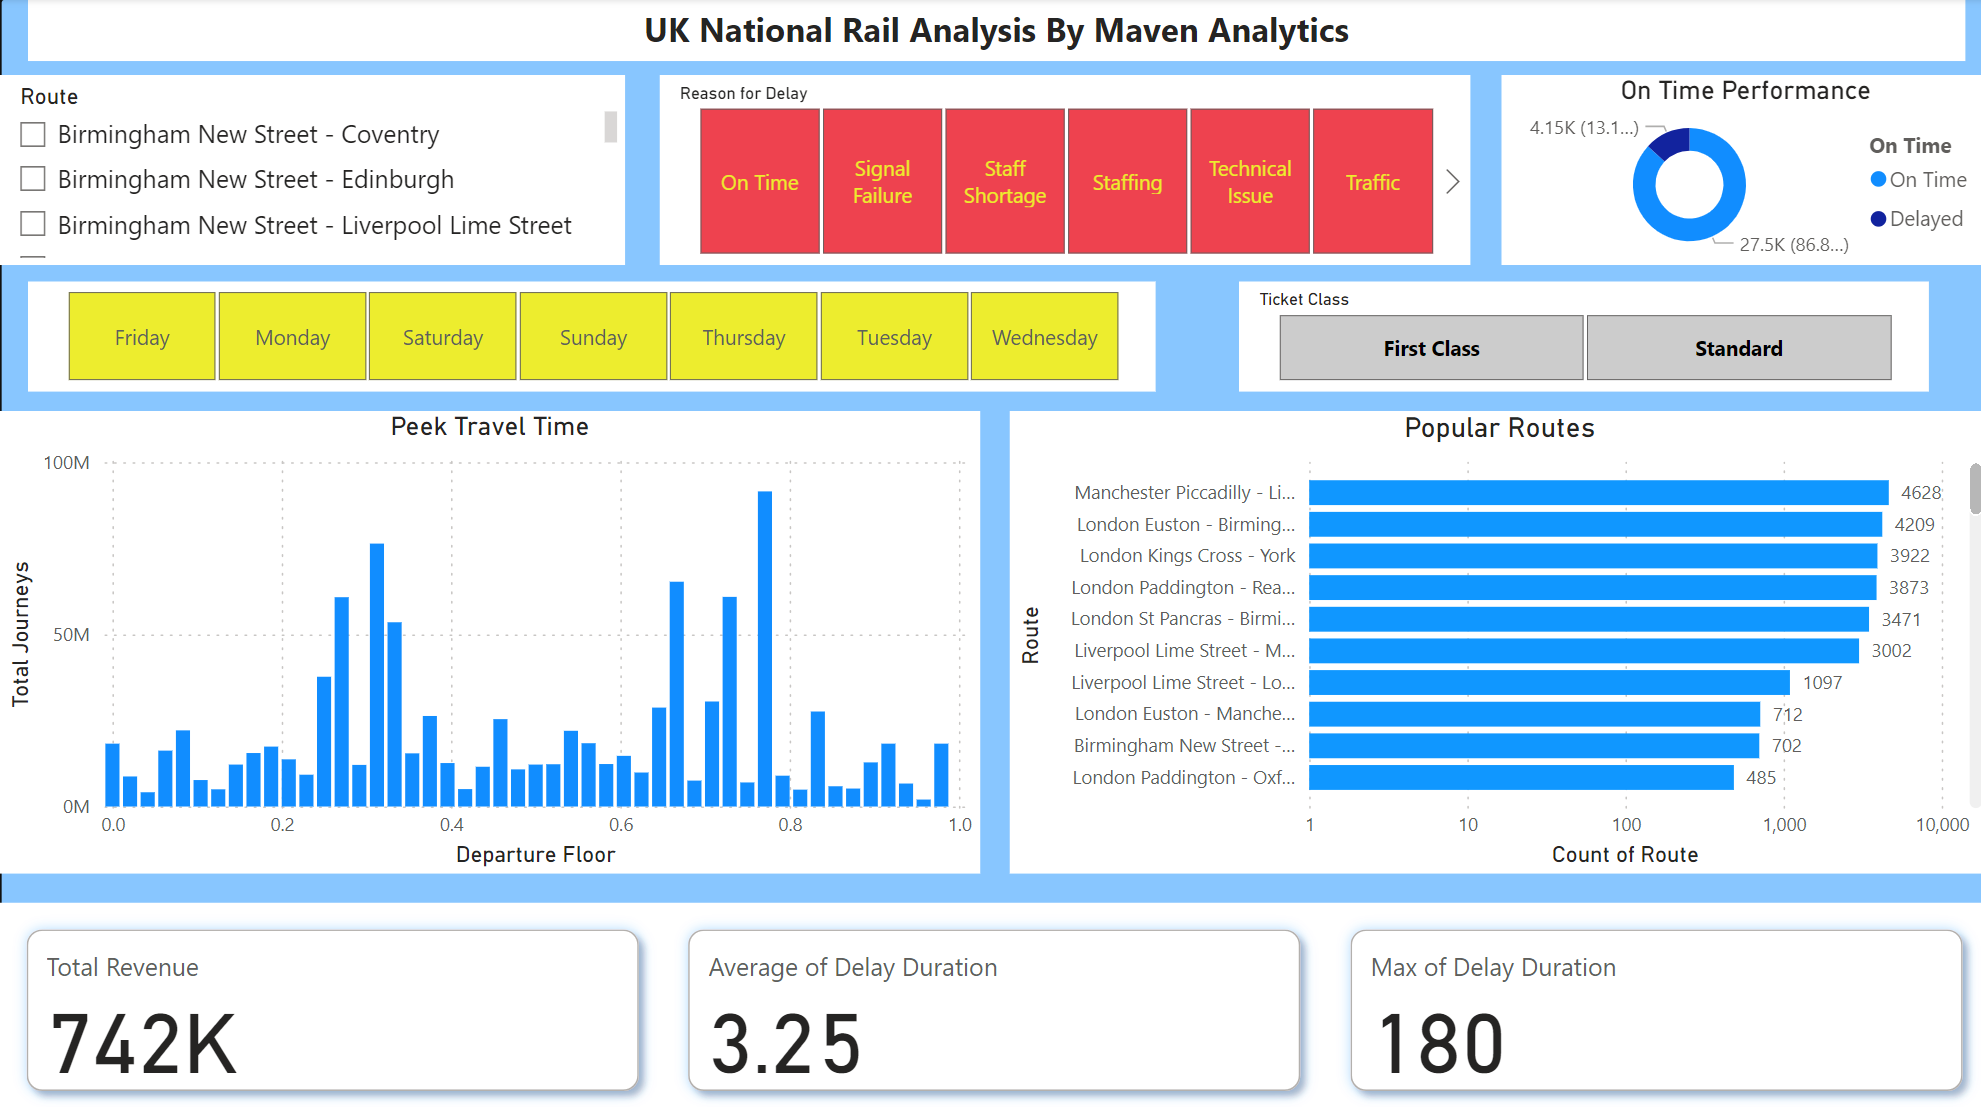

Layout of this report page (visuals, bound fields, positions):
{"tool":"powerbi","page":{"name":"Page 1","canvas":[1280,720],"ordinal":0},"visuals":[{"type":"slicer","fields":{"Values":["railway.Route"]},"box":[0,50.1,402,122],"z":0},{"type":"slicer","fields":{"Values":["railway.Reason for Delay"]},"box":[425.1,50.1,521.5,122],"z":1000},{"type":"clusteredColumnChart","title":"Peek Travel Time","fields":{"Category":["railway.Departure Floor"],"Y":["Sum(railway.Total Journeys)"]},"box":[0,265.9,630.6,298],"z":2000},{"type":"barChart","title":"Popular Routes","fields":{"Category":["railway.Route"],"Y":["CountNonNull(railway.Route)"]},"box":[649.9,265.9,630.6,298],"z":3000},{"type":"slicer","fields":{"Values":["railway.Ticket Class"]},"box":[796.9,182,443.9,70.6],"z":4000},{"type":"slicer","fields":{"Values":["Calendar.DayOfWeekName"]},"box":[18,182.4,725.7,70.6],"z":5000},{"type":"cardVisual","fields":{"Data":["Sum(railway.Price)","Avg(railway.Delay Duration)","Max(railway.Delay Duration)1"]},"box":[0,582,1280,138],"z":6000},{"type":"donutChart","title":"On Time Performance ","fields":{"Category":["railway.On Time"],"Y":["CountNonNull(railway.Journey Status)"]},"box":[965.9,50.1,314.7,122],"z":7000},{"type":"textbox","box":[18,0,1246.8,40.5],"z":7001}]}

Visuals, with their boxes in screenshot pixels (x1, y1, x2, y2), scaled from the page's 1280x720 canvas onto the 1981x1107 screenshot:
slicer - railway.Route: x1=0, y1=77, x2=622, y2=265
slicer - railway.Reason for Delay: x1=658, y1=77, x2=1465, y2=265
"Peek Travel Time" clusteredColumnChart: x1=0, y1=409, x2=976, y2=867
"Popular Routes" barChart: x1=1006, y1=409, x2=1980, y2=867
slicer - railway.Ticket Class: x1=1233, y1=280, x2=1920, y2=388
slicer - Calendar.DayOfWeekName: x1=28, y1=280, x2=1151, y2=389
cardVisual - Sum(railway.Price) x Avg(railway.Delay Duration): x1=0, y1=895, x2=1980, y2=1106
"On Time Performance " donutChart: x1=1495, y1=77, x2=1980, y2=265
textbox: x1=28, y1=0, x2=1957, y2=62
